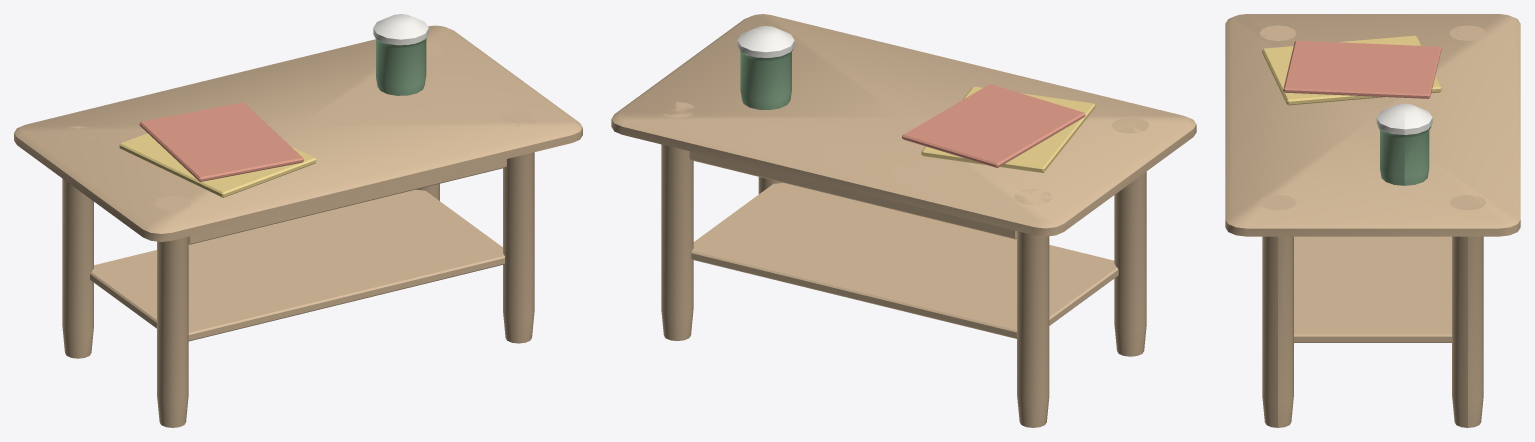
Rendered from care-home-and-day-room-coffee-table-2baca1b9__35733.glb.
3 views of the same model, side by side, from view 1: azimuth 30°, elevation 25°; view 2: azimuth 150°, elevation 25°; view 3: azimuth 270°, elevation 25° (orthographic). The views are drawn at different scales.
Visible parts, largest first — view 1: coffee-table; view 2: coffee-table; view 3: coffee-table.
Part boxes in pixels (left/top/right/bottom): coffee-table: left=14, top=14, right=582, bottom=427; coffee-table: left=611, top=14, right=1196, bottom=427; coffee-table: left=1225, top=14, right=1520, bottom=427.
Bounding box in the file's own units: 0.96 × 0.6 × 0.56.
